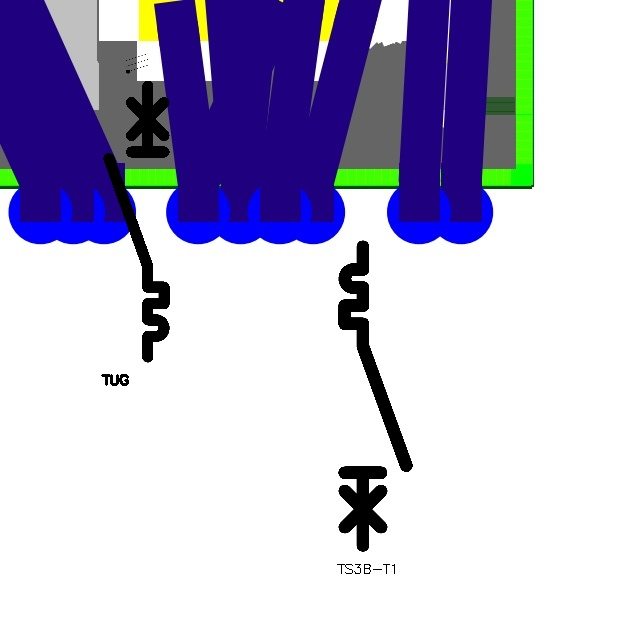interruptor_termomagnetico: (337, 239, 414, 553), (102, 79, 171, 363)
